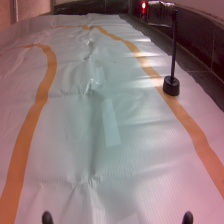red: (136, 1, 183, 99)
